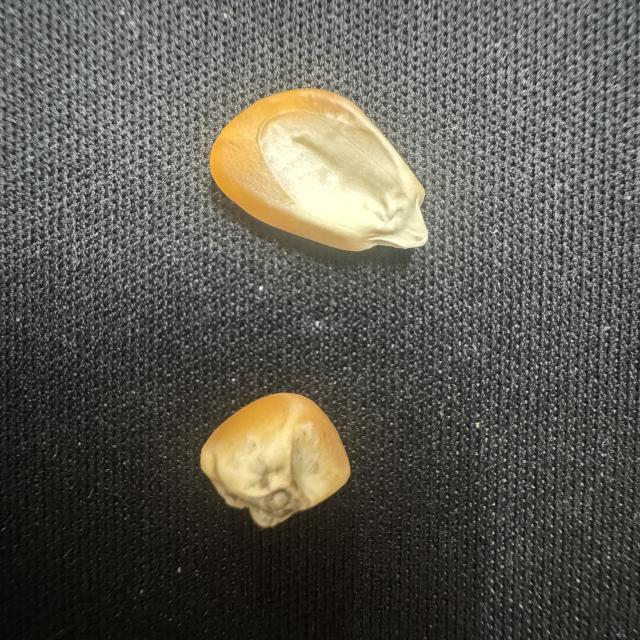Bad-Seed: (189, 389, 363, 539)
Good-Seed: (193, 81, 446, 267)
